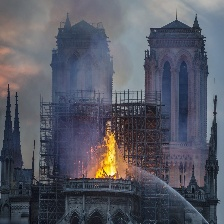fire: (86, 129, 118, 177)
smoke: (20, 1, 155, 133)
